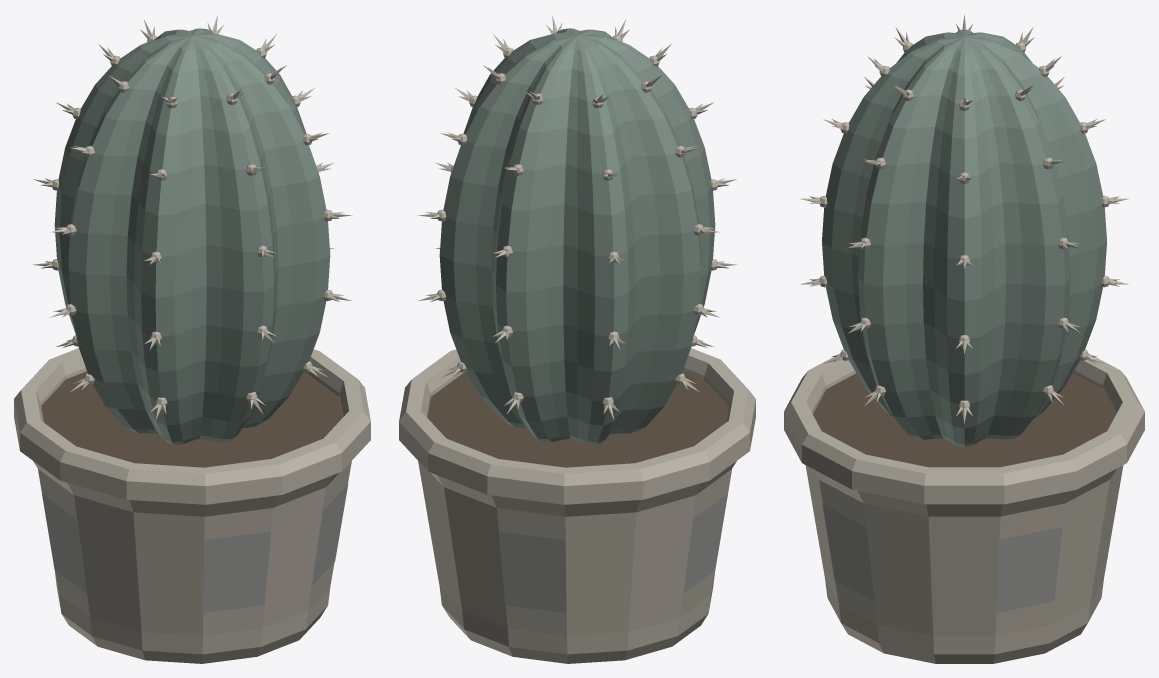
Rendered from room-potted-cactus.glb.
3 views of the same model, side by side, from view 1: azimuth 30°, elevation 25°; view 2: azimuth 150°, elevation 25°; view 3: azimuth 270°, elevation 25° (orthographic).
Parts seen in each view (by area): view 1: cactus-sage, ceramic-linen, soil-wood, ceramic-trim; view 2: cactus-sage, ceramic-linen, soil-wood, ceramic-trim; view 3: cactus-sage, ceramic-linen, soil-wood, ceramic-trim.
Boxes of the visible parts, x1,y1,x2,y2 form: cactus-sage: (54,28,330,444); ceramic-linen: (14,15,370,663); soil-wood: (41,371,342,467); ceramic-trim: (42,484,348,612); cactus-sage: (439,28,715,444); ceramic-linen: (399,15,755,663); soil-wood: (427,371,728,467); ceramic-trim: (498,494,727,612); cactus-sage: (822,29,1106,447); ceramic-linen: (784,14,1144,663); soil-wood: (813,373,1115,467); ceramic-trim: (822,504,1062,612).
Size of the model in its own units: 0.4465 by 0.803 by 0.458.
